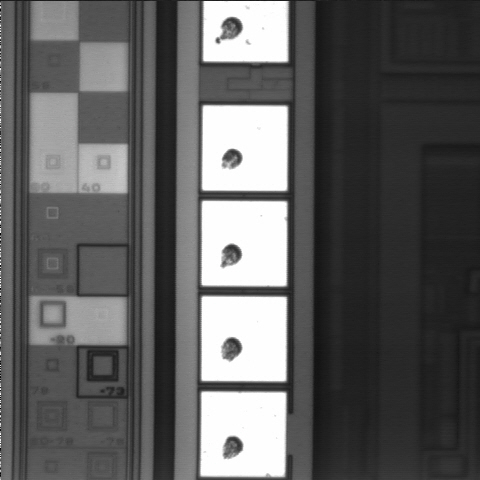pad: (202, 106, 288, 191), (201, 296, 287, 381), (200, 392, 286, 477), (202, 201, 287, 286)
